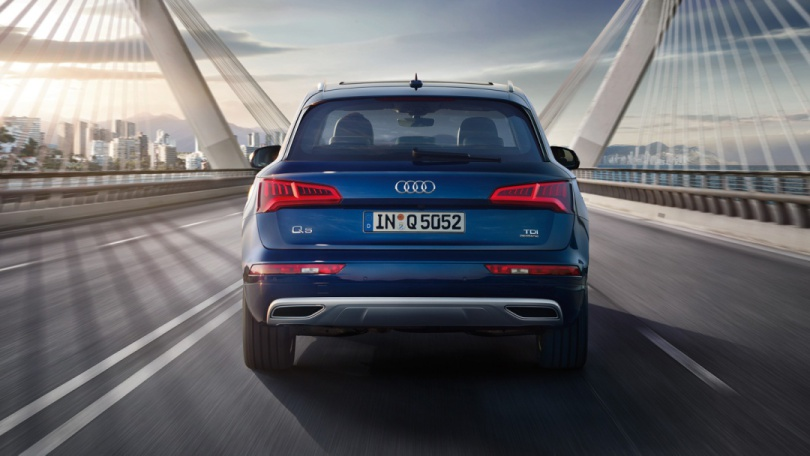audi: (389, 176, 451, 198)
